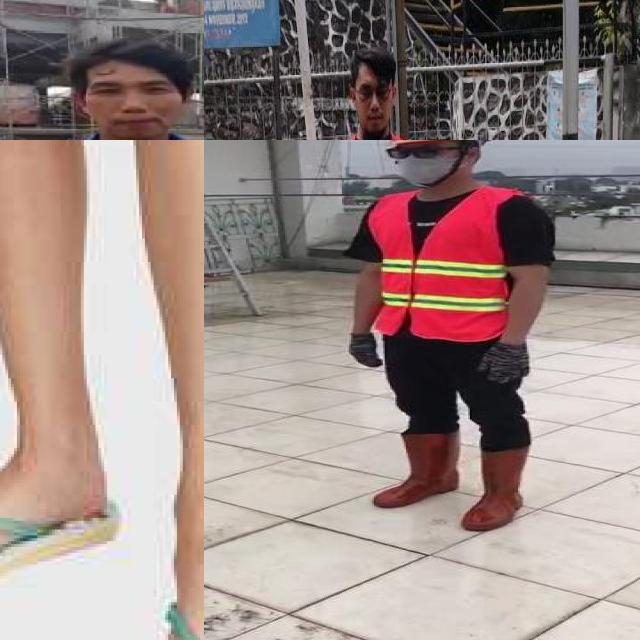Sandals: (0, 437, 204, 640)
boots: (374, 430, 463, 509), (459, 441, 525, 535)
face_mask: (383, 144, 457, 184)
face_nomask: (88, 78, 176, 131)
glasses: (383, 141, 454, 162)
hand_glove: (476, 344, 538, 385), (344, 332, 386, 370)
head_nohelmet: (66, 34, 200, 82)
person: (336, 140, 567, 536), (0, 11, 204, 140), (293, 33, 455, 140)
vest: (367, 187, 529, 343)
